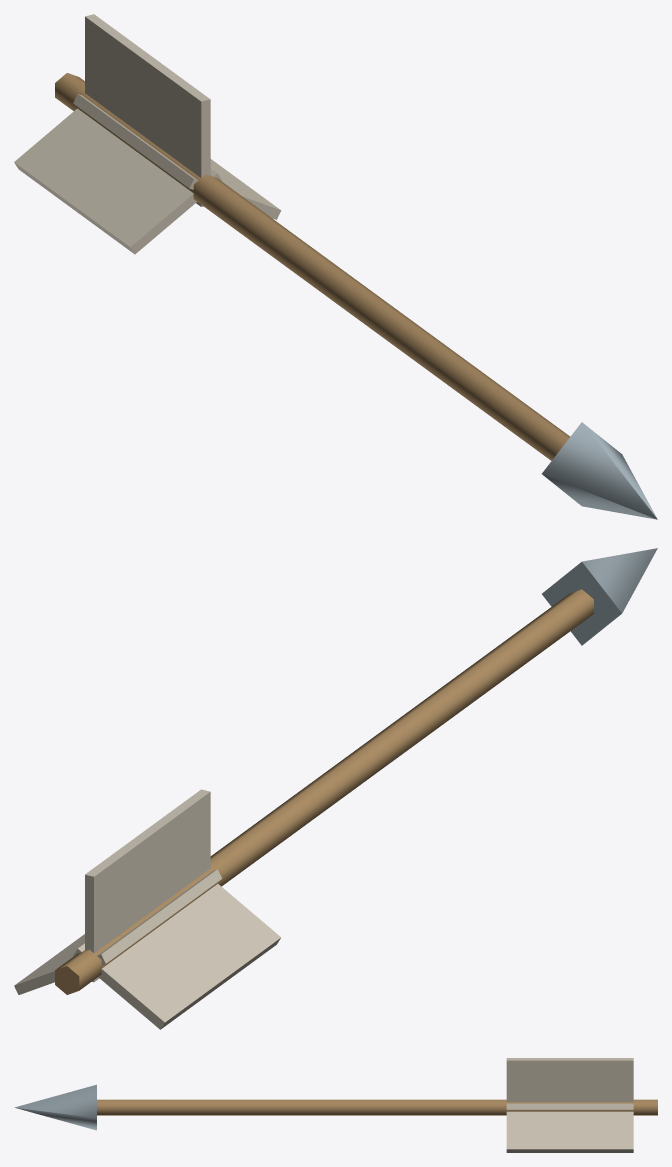
The model's file is arrow-v1.glb.
3 renders of one model, top to bottom at view 1: azimuth 30°, elevation 25°; view 2: azimuth 150°, elevation 25°; view 3: azimuth 270°, elevation 25°, orthographic. The views are drawn at different scales.
Visible parts, largest first — view 1: arrow-v1; view 2: arrow-v1; view 3: arrow-v1.
Part boxes in pixels (x1=…): arrow-v1: x1=14, y1=14, x2=657, y2=519; arrow-v1: x1=14, y1=548, x2=657, y2=1029; arrow-v1: x1=14, y1=1058, x2=657, y2=1152.
Size of the model in its own units: 0.0974 by 0.0843 by 0.66.
